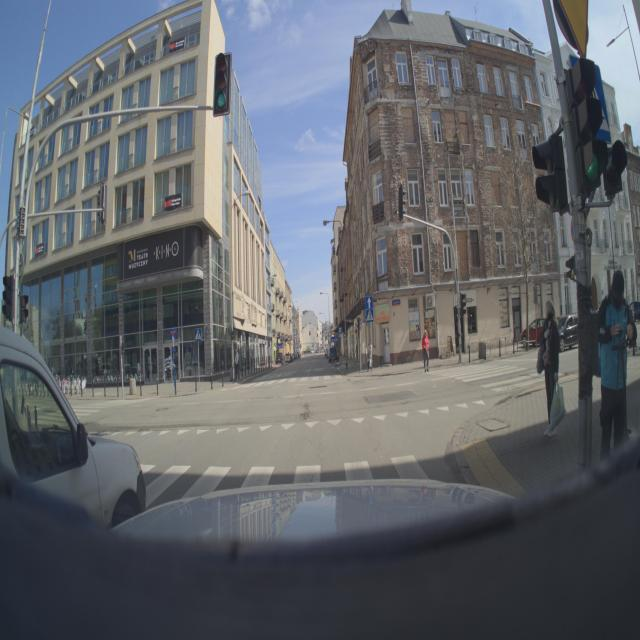green_light: (211, 50, 236, 118)
